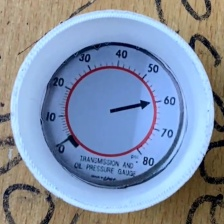gauge: (40, 43, 184, 189)
